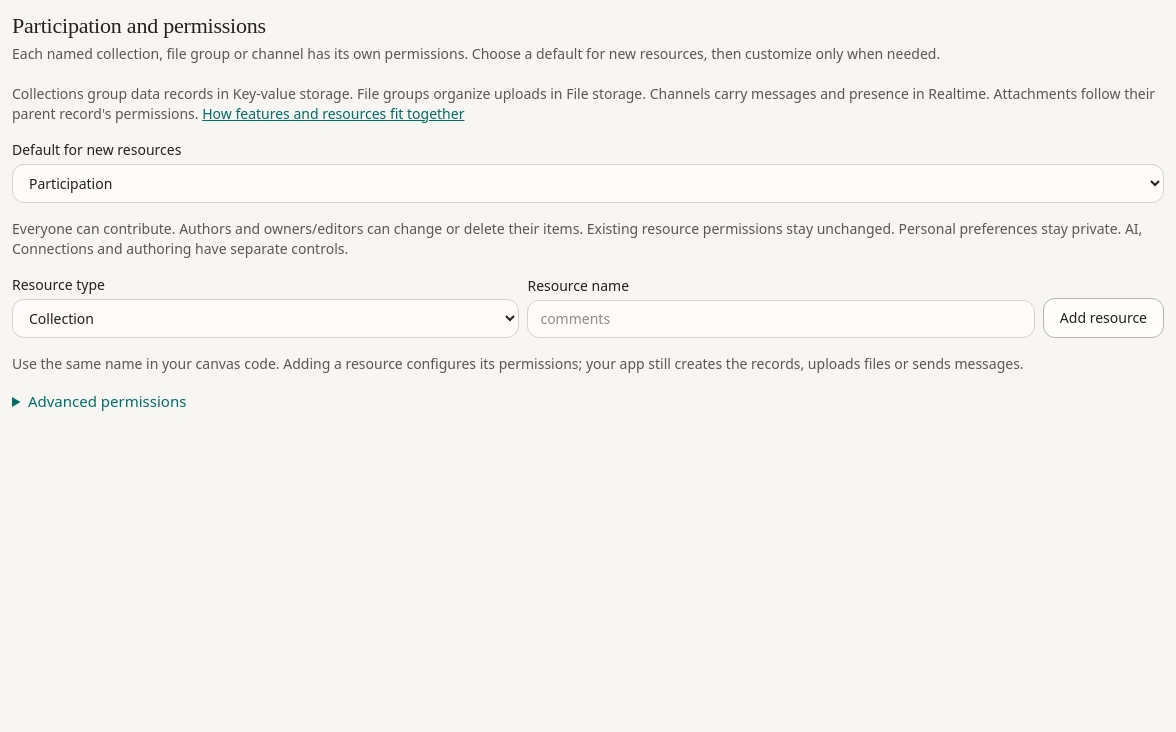
Test: runtime policy settings › uses the default for new resources and leaves existing policies unchanged
This screenshot has width=1176, height=732.
Select "Read only" in the dropdown labelled "Default for new resources". click: (588, 183)
box: [12,164,1164,202]
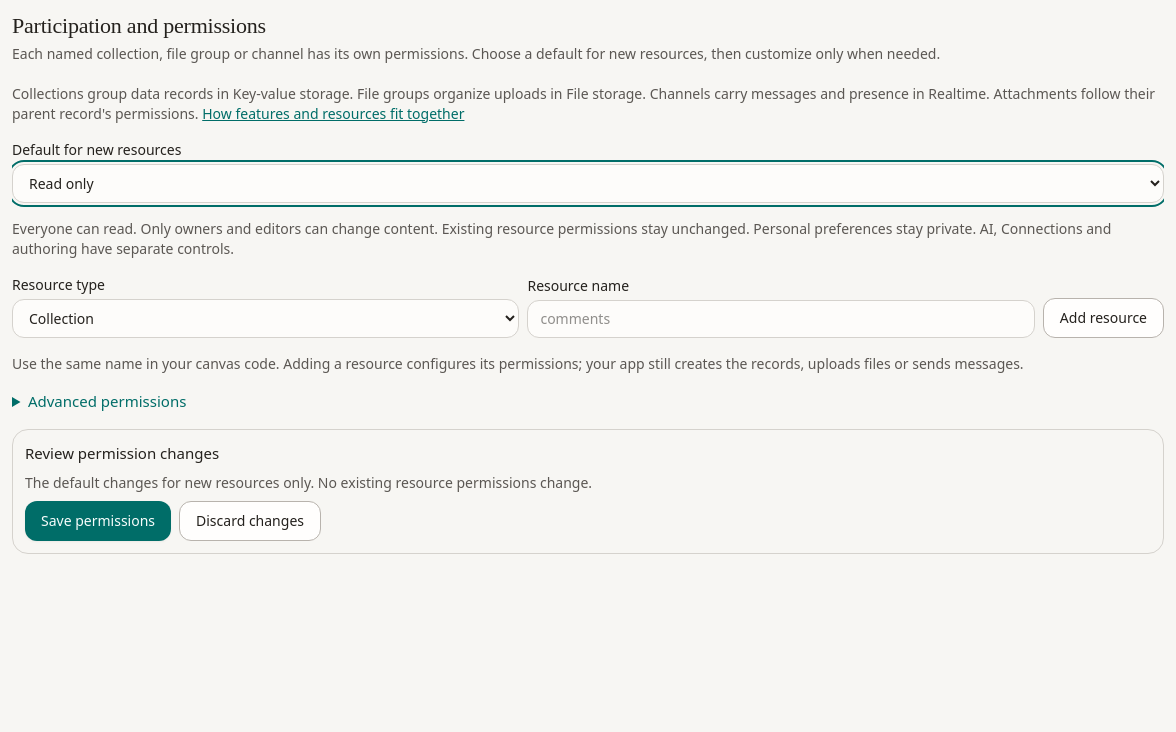
Type "settings" into the field labelled "Resource name". click: (781, 318)
box: [527,300,1035,338]
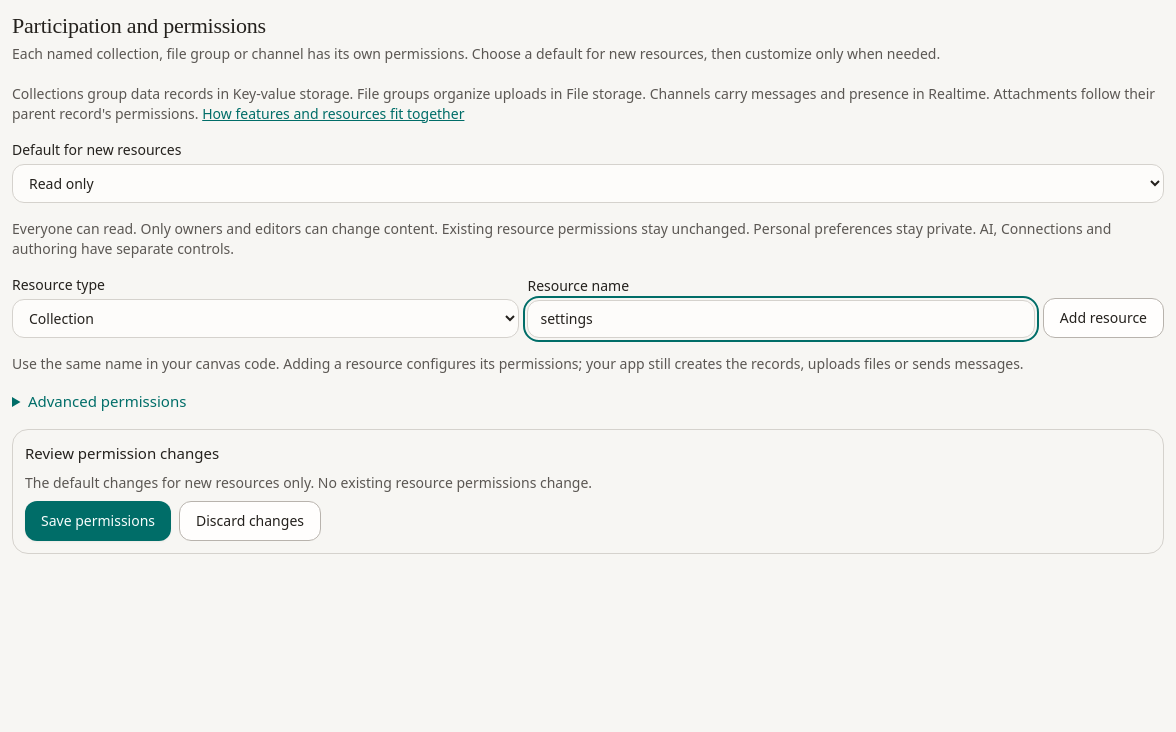
Click the button "Add resource". click: (1103, 318)
box: [1043,298,1164,338]
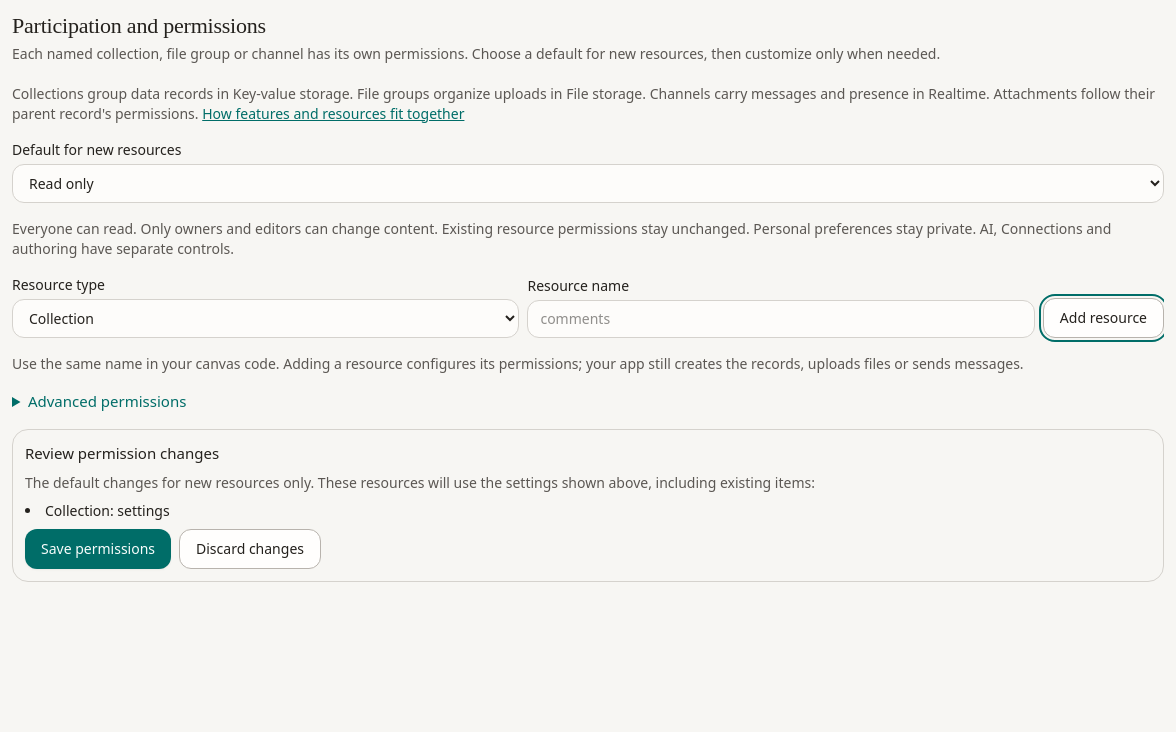
Click the button "Save permissions". click: (98, 549)
box: [25,529,171,569]
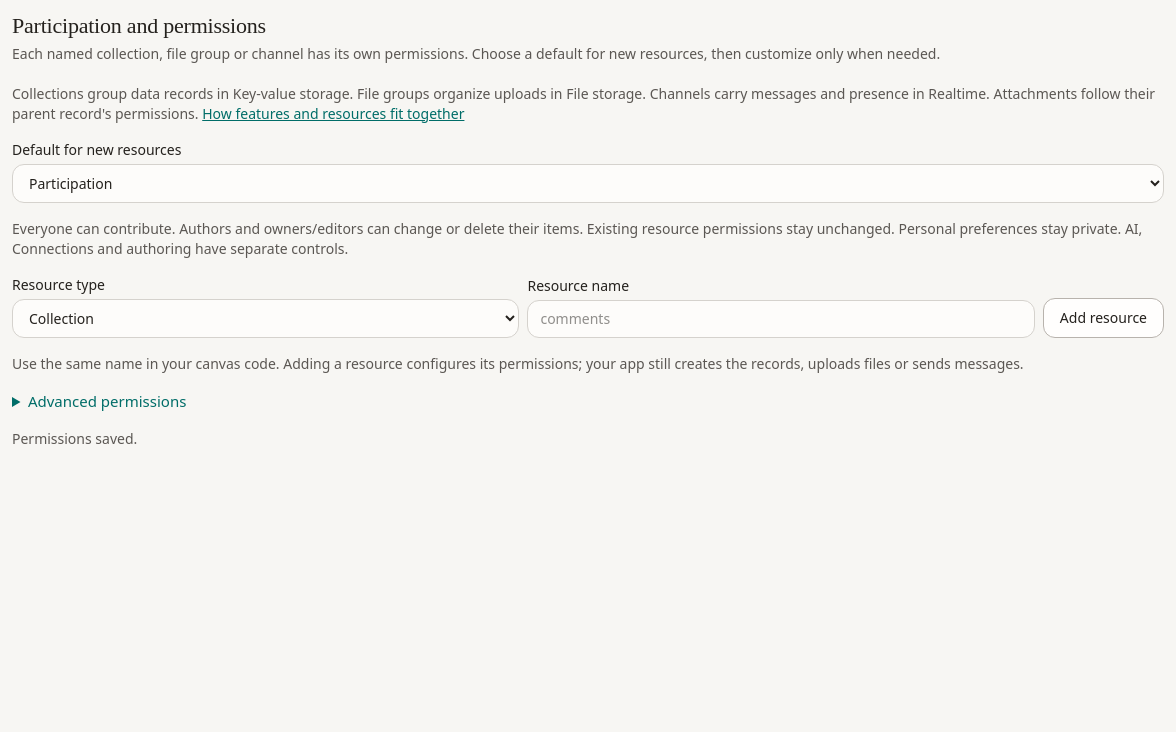
Expected: the message shows "Permissions saved", [12,429,137,448]
